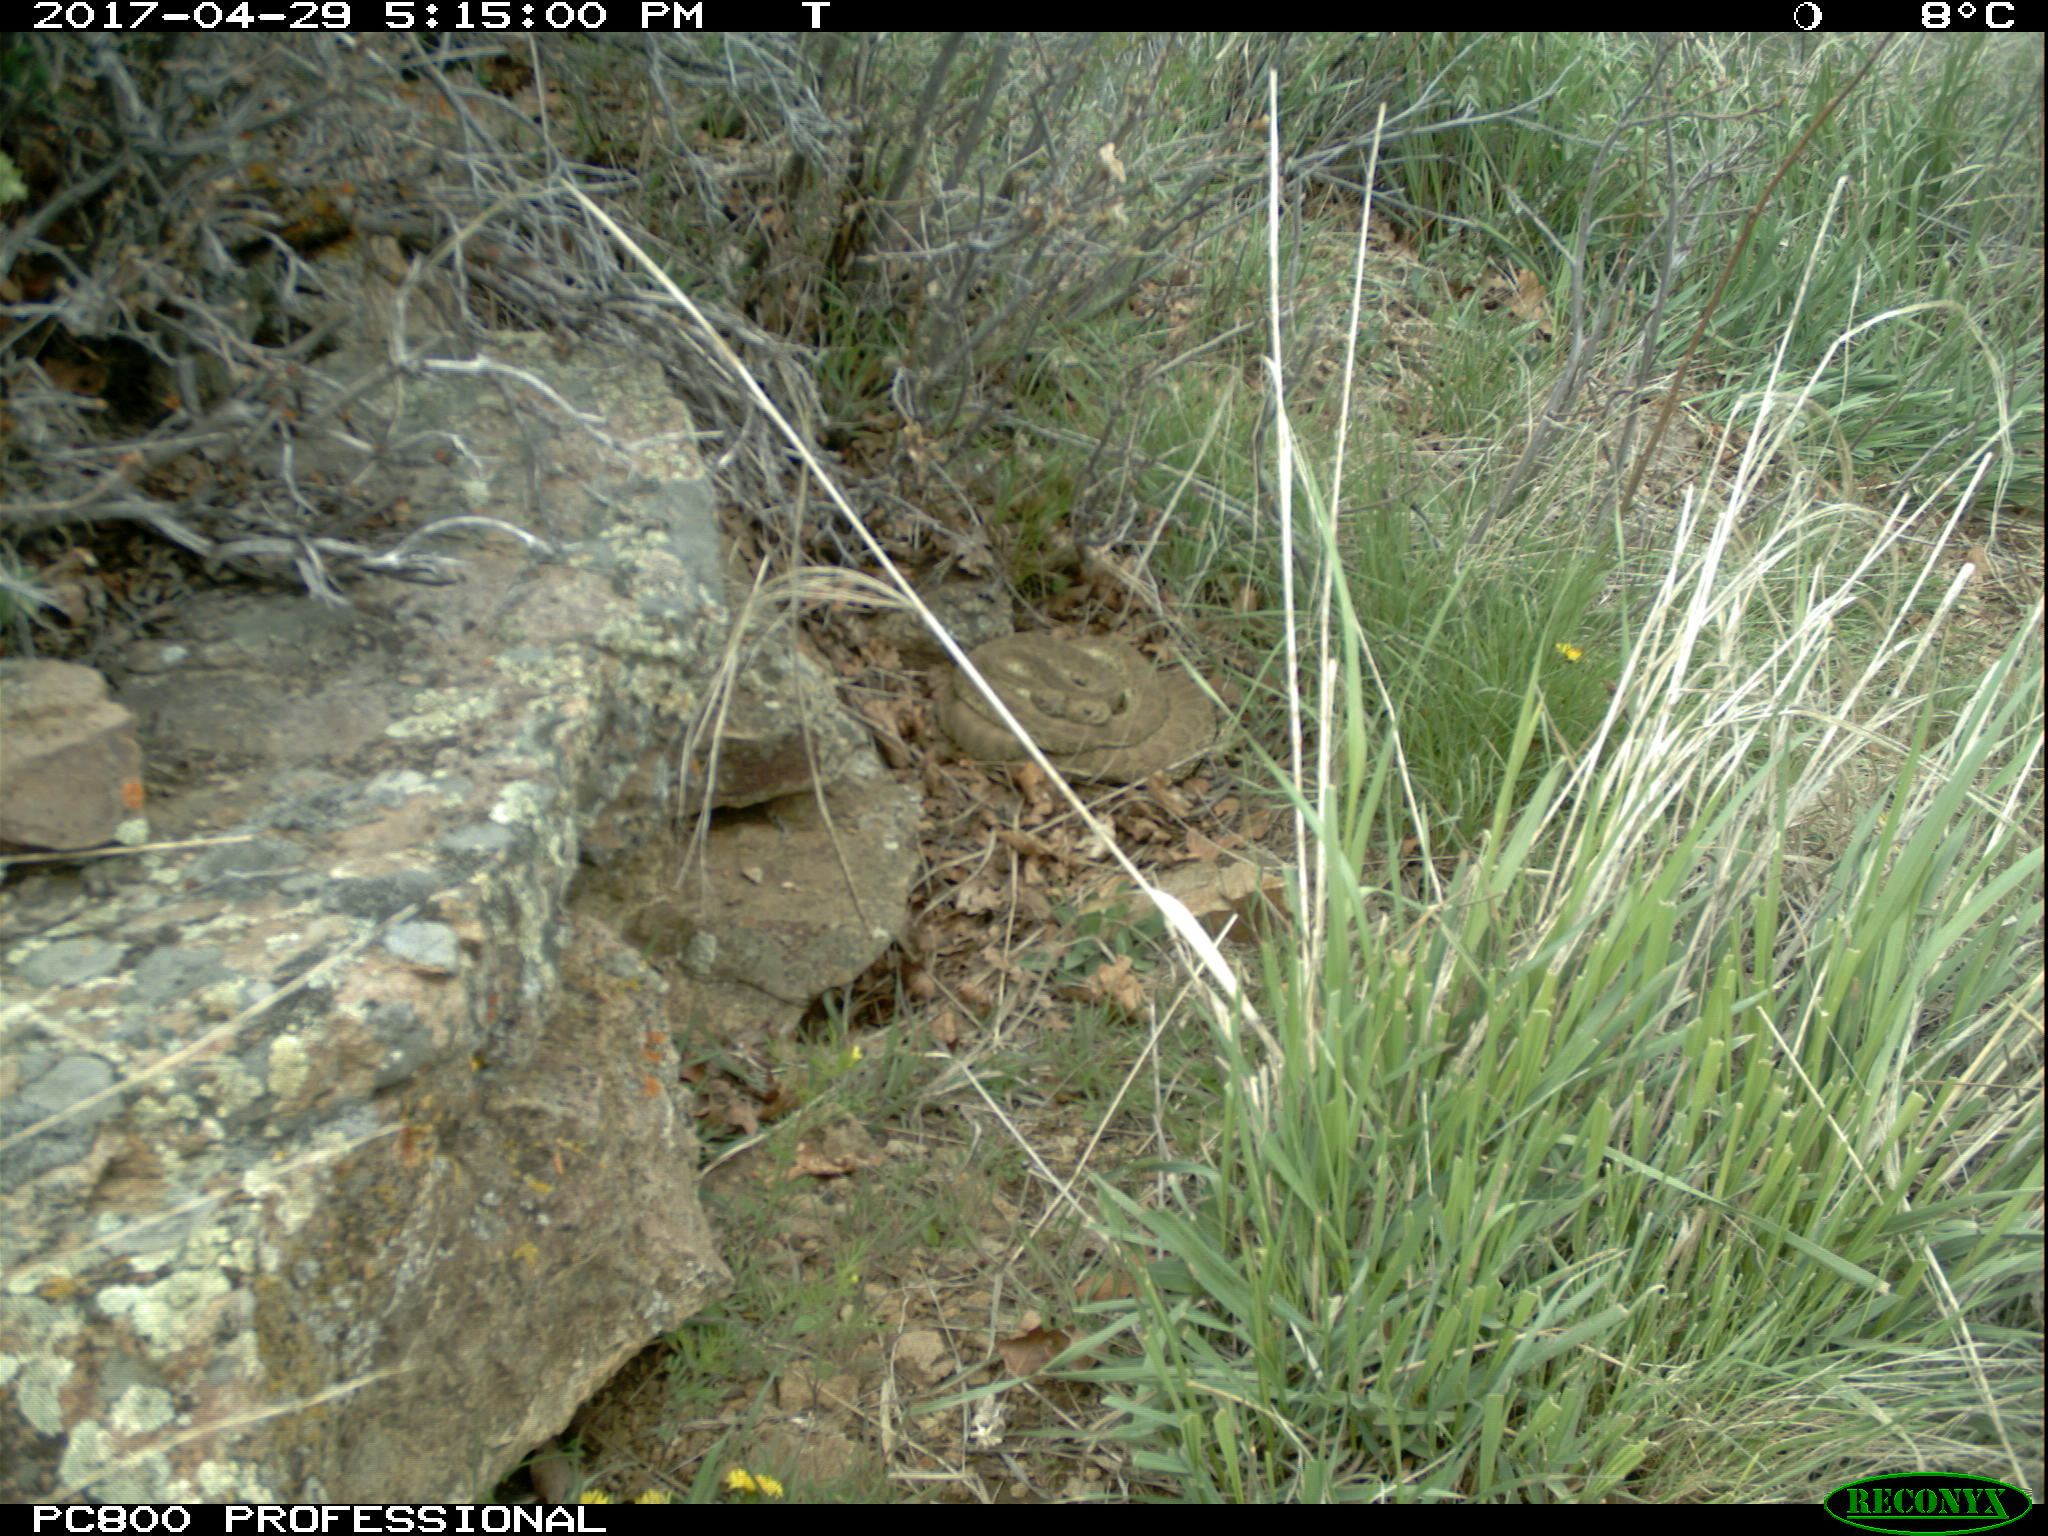snake: (927, 626, 1222, 787)
